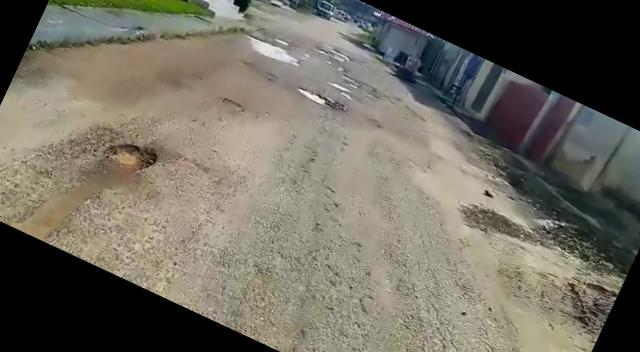pothole: (546, 266, 621, 346), (105, 130, 157, 176), (246, 32, 302, 68), (294, 81, 342, 112), (326, 80, 350, 96)
